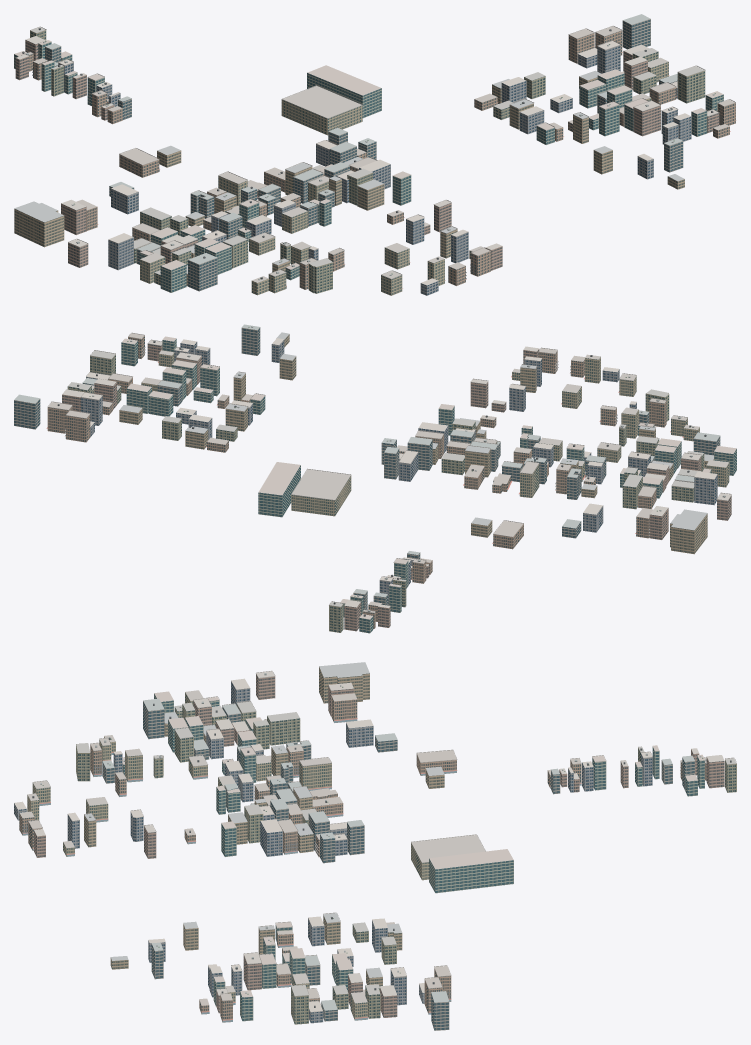
The picture shows the model from 3 angles, top to bottom: view 1: azimuth 30°, elevation 25°; view 2: azimuth 150°, elevation 25°; view 3: azimuth 270°, elevation 25°; orthographic projection. The views are drawn at different scales.
Visible parts, largest first — view 1: Station 4 surrounding real OSM building footprints; view 2: Station 4 surrounding real OSM building footprints; view 3: Station 4 surrounding real OSM building footprints.
Part boxes in pixels (x1,y1,x2,y2): Station 4 surrounding real OSM building footprints: (14, 14, 736, 295); Station 4 surrounding real OSM building footprints: (14, 324, 736, 633); Station 4 surrounding real OSM building footprints: (14, 662, 736, 1030).
Bounding box in the file's own units: 747 × 30.3 × 666.
25 materials, 8 textured.
